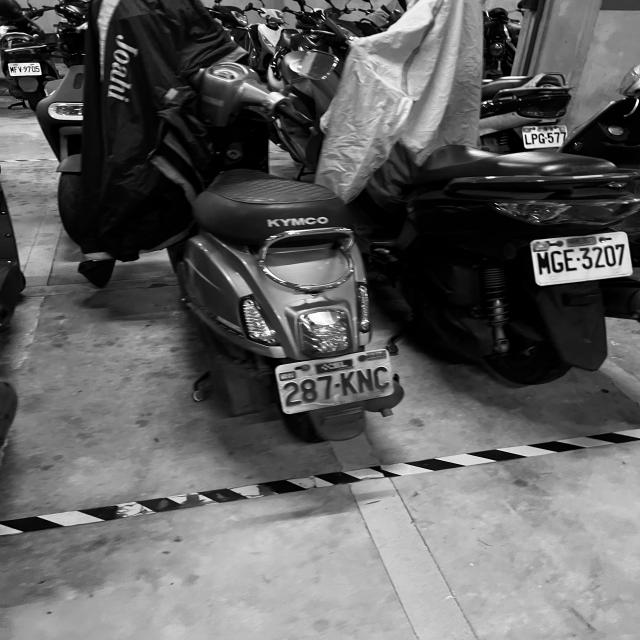-: (334, 382, 341, 388), (576, 257, 582, 261), (545, 137, 547, 139)
0: (603, 244, 618, 267)
2: (282, 379, 304, 408), (591, 244, 607, 269)
3: (579, 246, 594, 270)
5: (553, 132, 560, 143), (547, 133, 554, 143)
7: (316, 374, 335, 401), (614, 241, 628, 266)
8: (298, 376, 321, 403)
C: (372, 365, 391, 391)
E: (562, 249, 579, 272)
G: (550, 250, 565, 275), (538, 132, 545, 144)
K: (339, 370, 359, 397)
L: (524, 134, 532, 145)
M: (536, 252, 551, 275)
N: (356, 366, 375, 394)
P: (531, 133, 538, 145)
plate: (279, 351, 394, 410), (531, 233, 631, 284)
